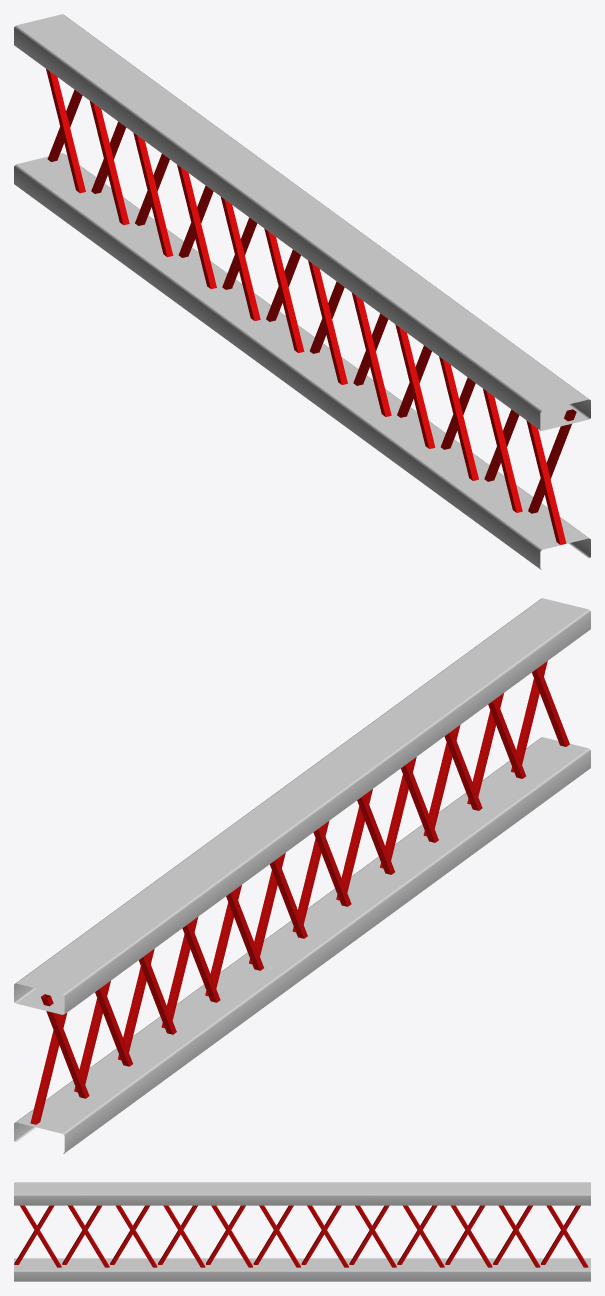
File: Dom_znati_ograda_12x.fbx
The picture shows the model from 3 angles, top to bottom: view 1: azimuth 30°, elevation 25°; view 2: azimuth 150°, elevation 25°; view 3: azimuth 270°, elevation 25°; orthographic projection. The views are drawn at different scales.
Parts seen in each view (by area): view 1: dom_znati_ograda_12x; view 2: dom_znati_ograda_12x; view 3: dom_znati_ograda_12x.
Part boxes in pixels (bbox=[...]): dom_znati_ograda_12x: bbox=[14, 14, 590, 569]; dom_znati_ograda_12x: bbox=[14, 598, 590, 1153]; dom_znati_ograda_12x: bbox=[14, 1182, 590, 1281].
Bounding box in the file's own units: 2.44 × 7.34 × 44.04.
